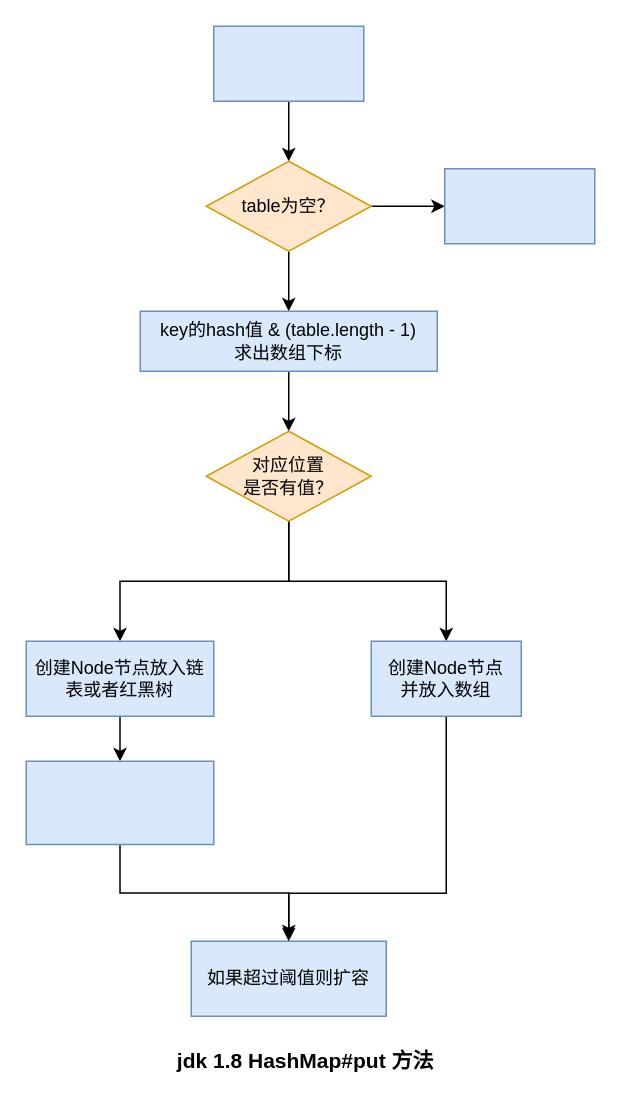
This 621x1103 diagram has some shape labels left out. Here are the shapes that lost their labels. From the top down, the centre of each, then its label:
At (288,63): "HashMap#put".
At (519,205): "初始化table数组 和threshold".
At (119,802): "如果key重复 根据onlyIfAbsent参数 决定是否用 新值替换旧值".
